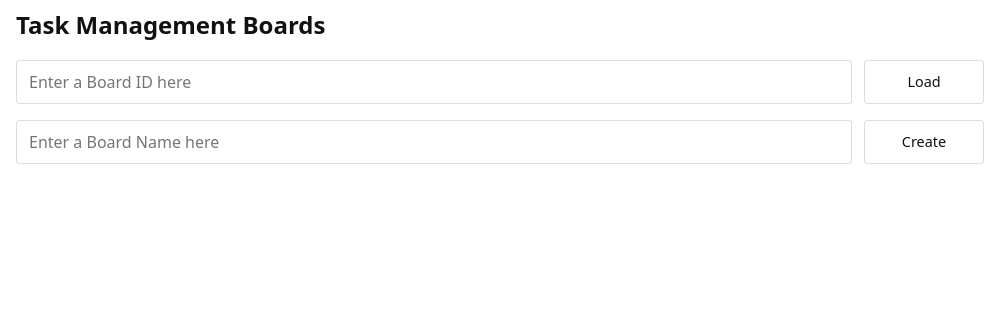
Test case: HomePage › shows the new board id instead of leaving the page
The image size is (1001, 333).
Type "Planning" into the field labelled "Enter a Board Name here" at coordinates (434, 142), box x1=16 y1=120 x2=852 y2=164
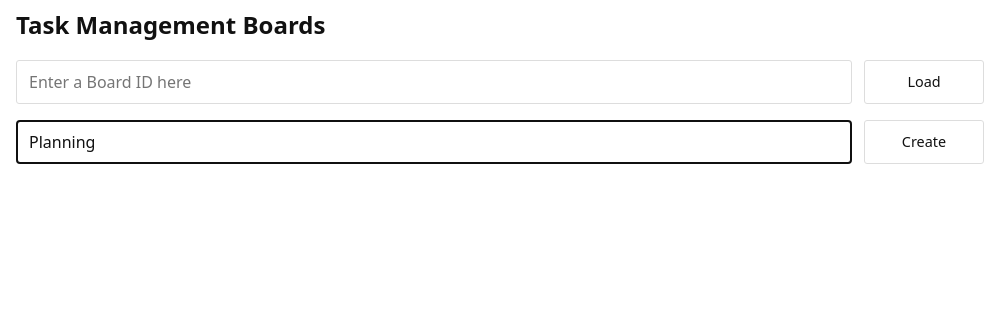
Click the button "Create" at coordinates (924, 142), box x1=864 y1=120 x2=984 y2=164
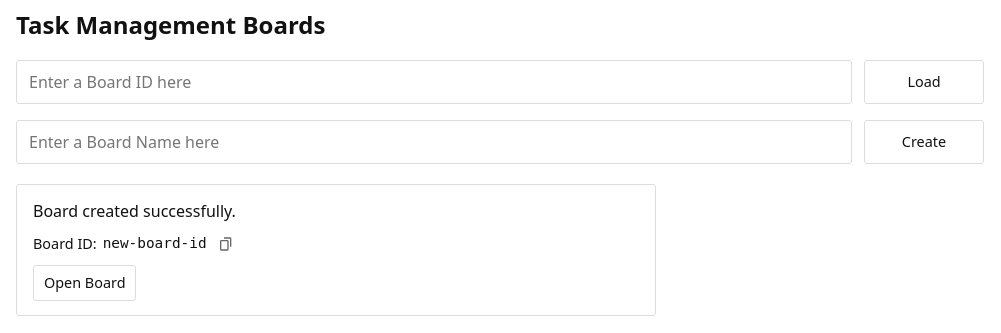
expect the text "new-board-id" is shown: met, box x1=103 y1=233 x2=207 y2=255
expect the link "Open Board" is shown: met, box x1=33 y1=265 x2=136 y2=301
